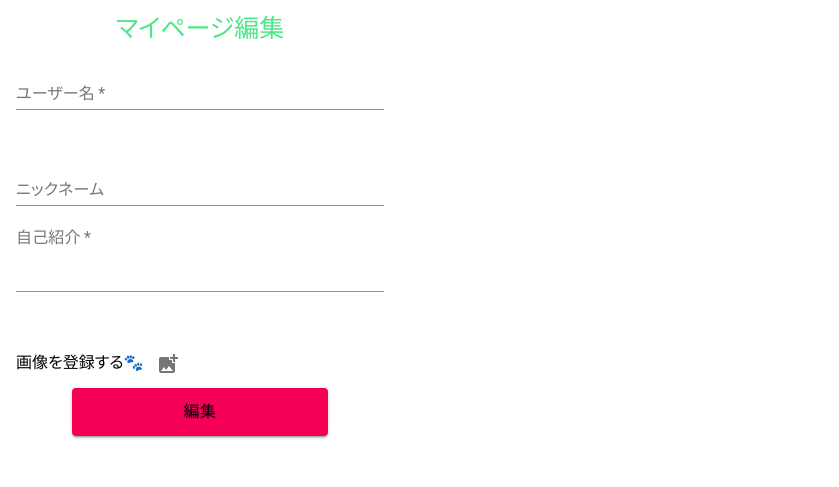
it: Rendering MyPageEdit › Put failure › エラーメッセージが表示される
Click the button "編集" at [200, 412], box [72, 388, 328, 436]
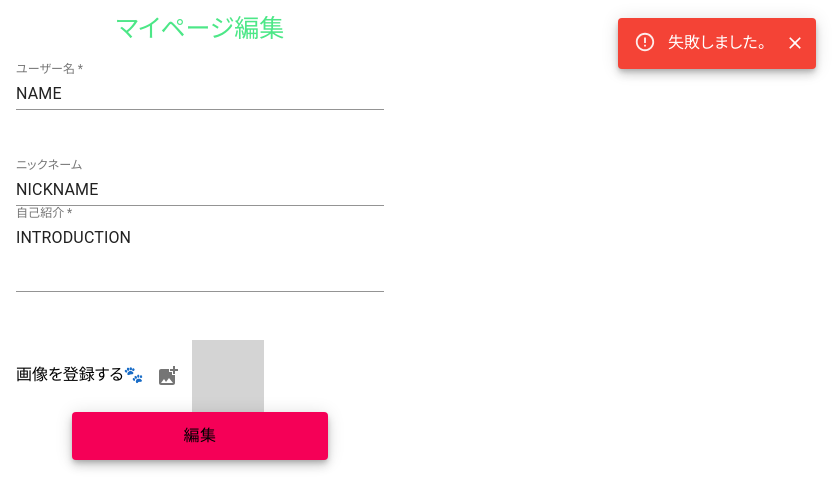
Check: the text "失敗しました。" is shown, box [668, 33, 766, 52]
